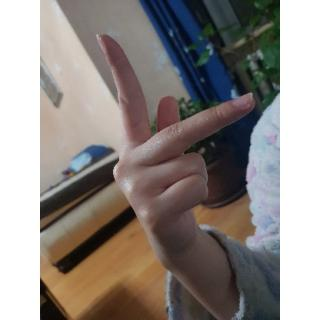DHAA: (87, 29, 261, 269)
